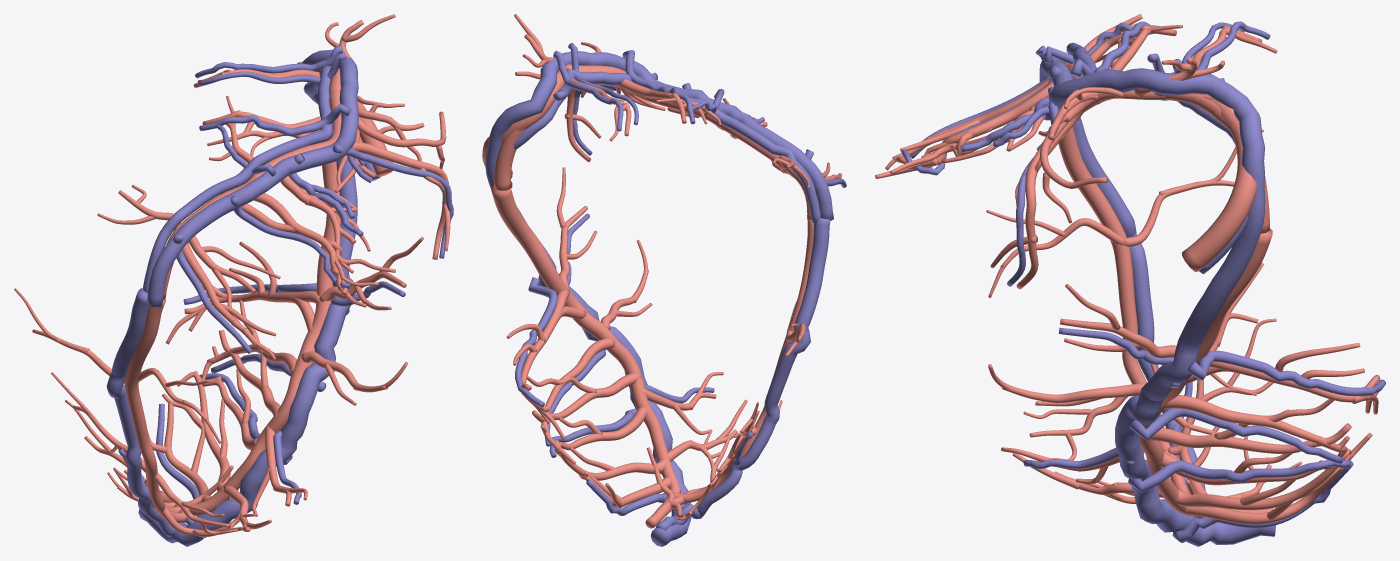
File: vessels_28.glb
3 views of the same model, side by side, from view 1: azimuth 30°, elevation 25°; view 2: azimuth 150°, elevation 25°; view 3: azimuth 270°, elevation 25° (orthographic). The views are drawn at different scales.
Visible parts, largest first — view 1: Renderer Node; view 2: Renderer Node; view 3: Renderer Node.
Part boxes in pixels (x1,y1,x2,y2): Renderer Node: (14, 14, 453, 546); Renderer Node: (482, 14, 846, 546); Renderer Node: (875, 14, 1385, 546).
Bounding box in the file's own units: 85.01 × 111 × 85.47.
